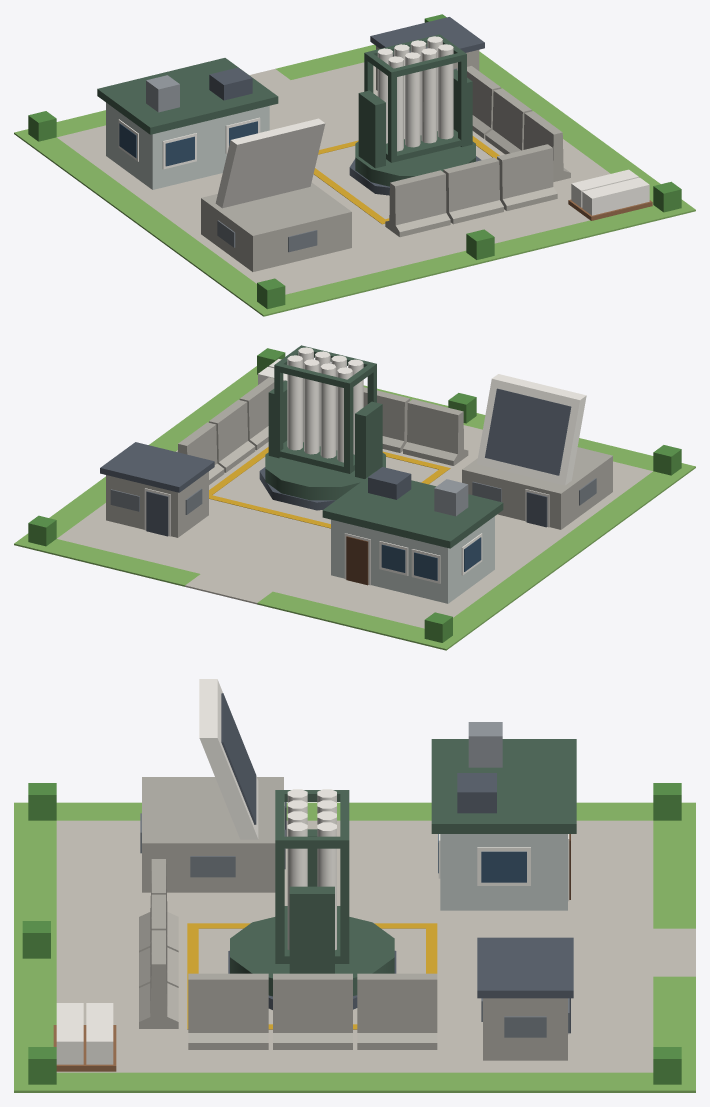
The model's file is interceptor.glb.
3 renders of one model, top to bottom at view 1: azimuth 30°, elevation 25°; view 2: azimuth 150°, elevation 25°; view 3: azimuth 270°, elevation 25°, orthographic. The views are drawn at different scales.
Parts seen in each view (by area): view 1: pad, verge, blast_wall (×6), radar_block, roof (×2), radar_panel, control_cabin, launch_tube (×5), launcher, tree_spot (×4), launcher_arm (×2), canister (×2) (+8 smaller); view 2: pad, verge, roof (×2), blast_wall (×5), control_cabin, radar_array, launch_tube (×5), radar_block, launcher, radar_panel, turret, power_unit (+9 smaller); view 3: pad, verge, blast_wall (×6), roof (×2), radar_block, control_cabin, tree_spot (×5), turret, launcher, power_unit, launcher_arm, radar_panel (+10 smaller).
Boxes of the visible parts, box(x1,y1,x2,y2) form: pad: box(57, 62, 610, 294); verge: box(14, 44, 695, 316); blast_wall (×6): box(385, 66, 570, 237); radar_block: box(201, 182, 351, 271); roof (×2): box(97, 17, 484, 134); radar_panel: box(215, 118, 325, 208); control_cabin: box(106, 102, 269, 189); launch_tube (×5): box(377, 44, 453, 151); launcher: box(364, 34, 466, 162); tree_spot (×4): box(28, 111, 681, 309); launcher_arm (×2): box(358, 69, 472, 168); canister (×2): box(571, 169, 649, 215); pad: box(57, 425, 652, 628); verge: box(14, 366, 695, 650); roof (×2): box(100, 442, 503, 548); blast_wall (×5): box(177, 377, 468, 484); control_cabin: box(331, 516, 494, 603); radar_array: box(485, 388, 571, 475); launch_tube (×5): box(287, 355, 363, 462); radar_block: box(462, 447, 612, 529); launcher: box(274, 345, 376, 473); radar_panel: box(477, 374, 586, 485); turret: box(265, 452, 385, 500); power_unit: box(106, 471, 208, 537); pad: box(56, 820, 695, 1072); verge: box(14, 802, 695, 1092); blast_wall (×6): box(139, 859, 437, 1049); roof (×2): box(431, 739, 576, 998); radar_block: box(142, 777, 283, 892); control_cabin: box(440, 834, 567, 910); tree_spot (×5): box(22, 783, 681, 1084); turret: box(230, 917, 394, 996); launcher: box(275, 790, 349, 963); power_unit: box(483, 998, 567, 1060); launcher_arm: box(289, 886, 334, 973); radar_panel: box(199, 679, 258, 839).
Size of the model in its own units: 24 by 6.55 by 24.
